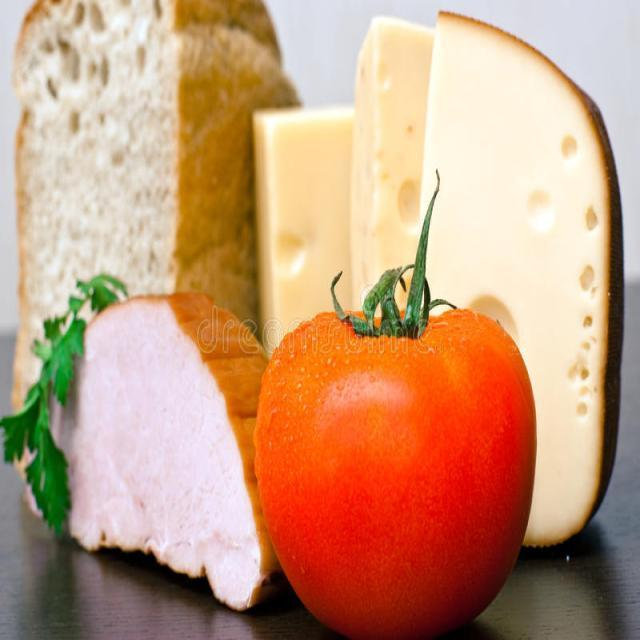sari: (256, 264, 558, 636)
